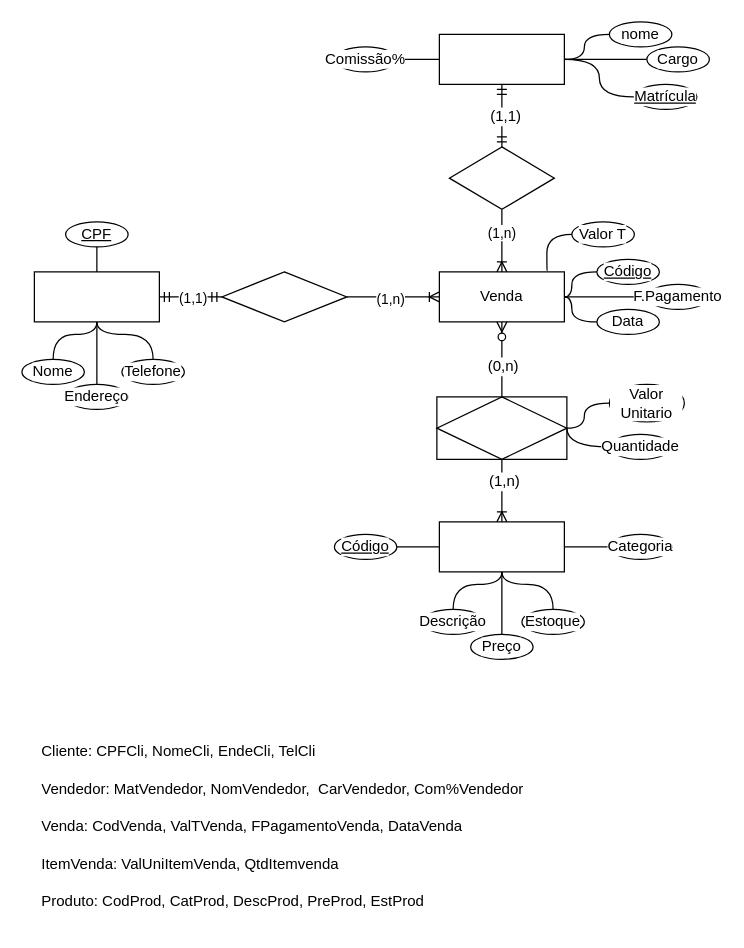
The diagram is 744 pixels wide and 948 high, and some of its shapes have lost their labels. Here are the shapes that lost their labels. From the top down, the box of each, then its label:
(438, 33, 564, 84): Vendedor
(448, 146, 554, 209): Vende
(33, 271, 159, 322): Cliente
(221, 271, 347, 322): Compra
(436, 396, 567, 459): ItemVenda
(438, 521, 564, 572): Produto
